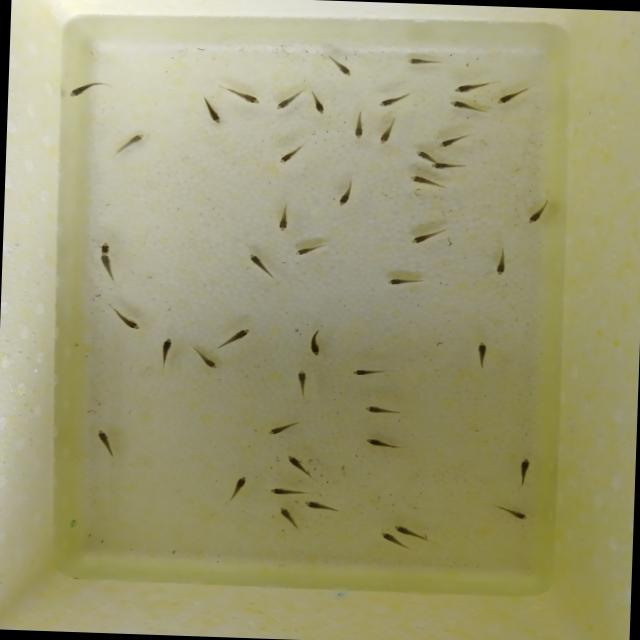fingerling: (91, 426, 120, 459), (114, 309, 148, 337), (270, 142, 306, 168), (241, 248, 274, 276), (271, 200, 295, 234), (218, 325, 254, 347), (61, 80, 95, 102), (280, 450, 311, 474), (405, 228, 443, 247), (334, 179, 356, 210), (502, 504, 536, 524), (95, 250, 119, 278), (512, 454, 534, 484), (292, 366, 312, 398), (342, 364, 387, 378), (471, 338, 492, 368), (274, 503, 299, 528), (200, 102, 226, 126), (302, 498, 341, 514), (120, 128, 148, 150), (361, 435, 399, 451), (490, 89, 520, 109), (359, 402, 399, 417), (307, 94, 330, 120), (288, 242, 325, 258), (372, 92, 404, 110), (228, 472, 252, 496), (523, 204, 548, 227), (331, 58, 357, 80), (272, 92, 300, 112), (264, 420, 296, 437), (394, 522, 426, 539), (195, 352, 222, 372), (305, 330, 323, 360), (380, 276, 424, 288), (402, 172, 438, 186), (489, 252, 508, 278), (262, 486, 306, 497), (156, 334, 175, 358), (238, 90, 266, 106), (374, 126, 396, 146), (441, 98, 476, 110), (401, 54, 435, 66), (449, 82, 482, 94), (434, 135, 460, 149), (412, 146, 434, 162), (424, 160, 456, 171), (348, 122, 366, 140), (376, 530, 396, 542)
